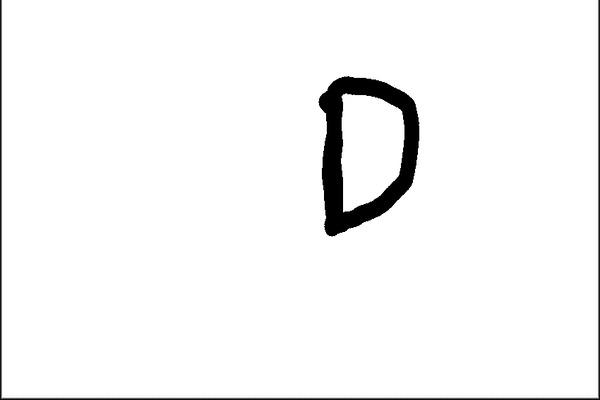D: (312, 71, 429, 238)
